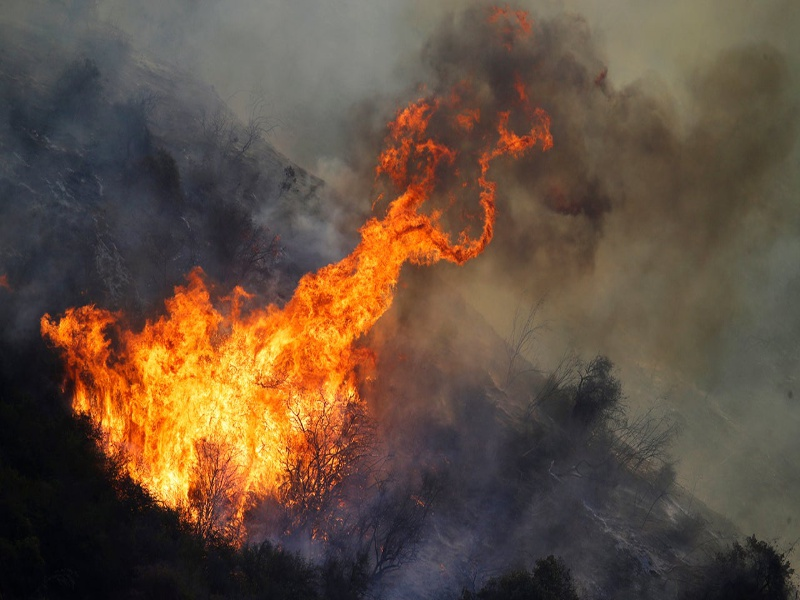fire: (40, 74, 459, 573), (459, 73, 560, 267)
